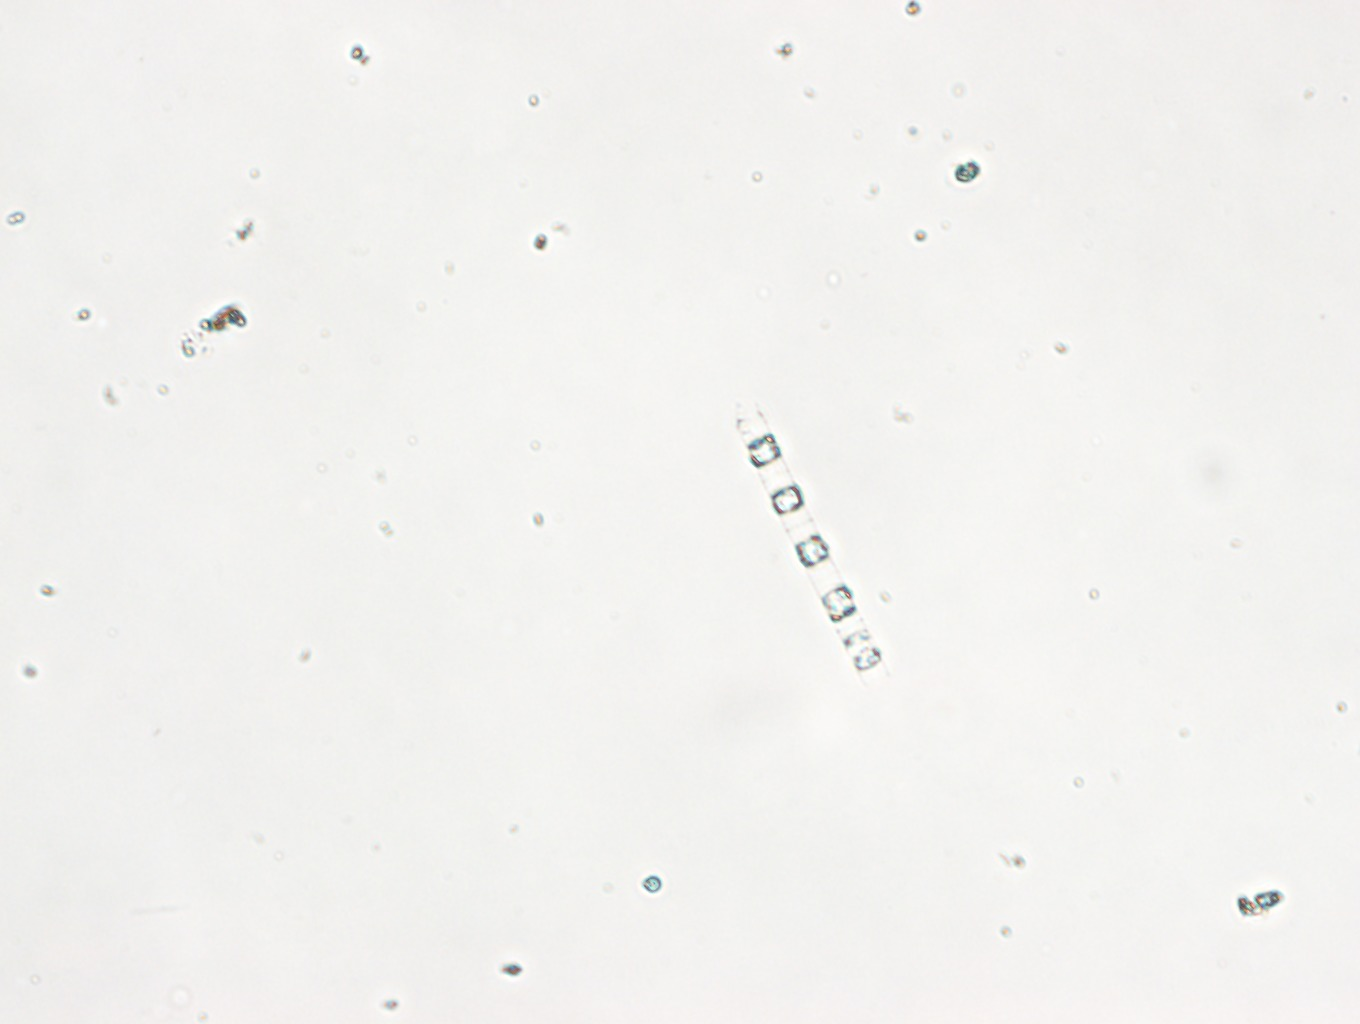skeletonema: (728, 393, 888, 688)
